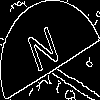N: (25, 25, 64, 82)
